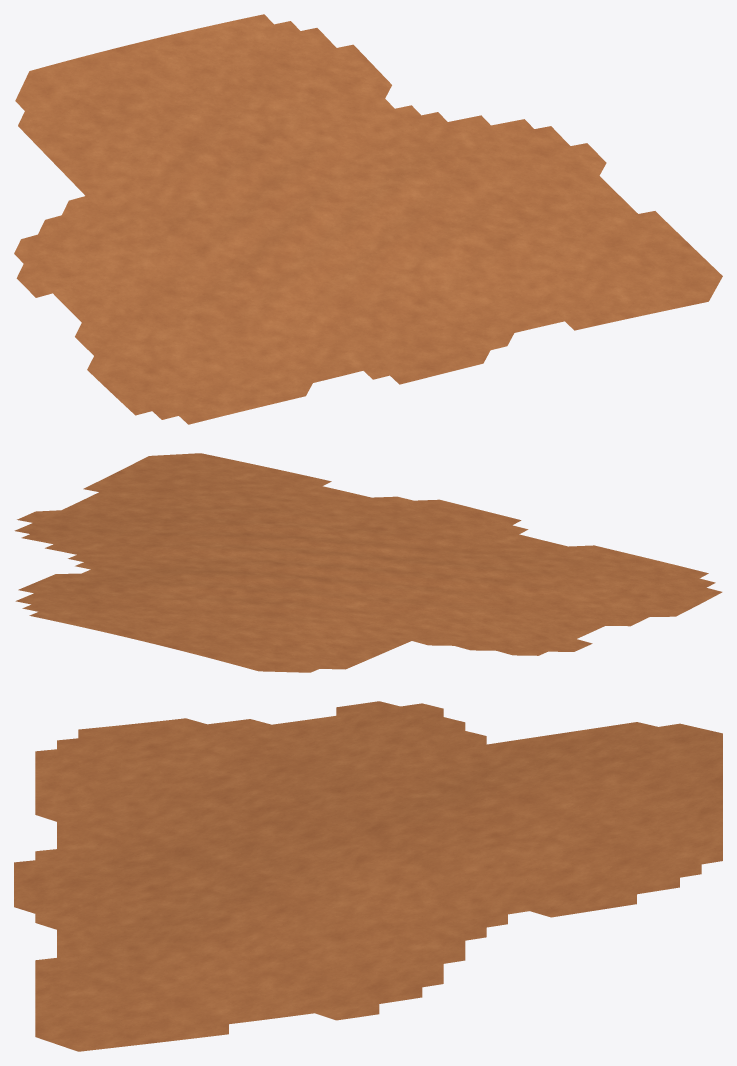
File: sand_orange_1.dae
3 views of the same model, one above another, from view 1: azimuth 30°, elevation 25°; view 2: azimuth 150°, elevation 25°; view 3: azimuth 270°, elevation 25° (orthographic). The views are drawn at different scales.
Visible parts, largest first — view 1: sand_orange_1; view 2: sand_orange_1; view 3: sand_orange_1.
Boxes of the visible parts, x1=… form: sand_orange_1: x1=14, y1=14, x2=722, y2=424; sand_orange_1: x1=14, y1=453, x2=722, y2=672; sand_orange_1: x1=14, y1=701, x2=722, y2=1051.
Bounding box in the file's own units: 8.75 × 8.25 × 1.36.
Materials: 1 (1 with a texture image).
